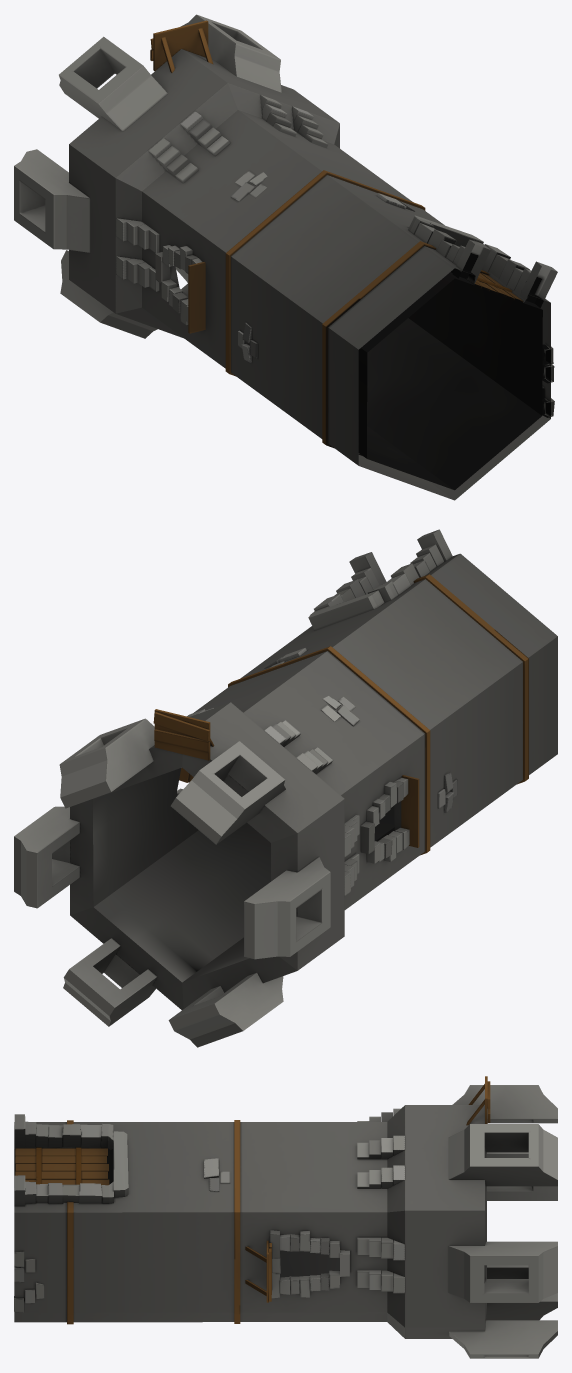
Rendered from Torre.fbx.
The picture shows the model from 3 angles, top to bottom: view 1: azimuth 30°, elevation 25°; view 2: azimuth 150°, elevation 25°; view 3: azimuth 270°, elevation 25°; orthographic projection. The views are drawn at different scales.
Visible parts, largest first — view 1: Torre; view 2: Torre; view 3: Torre.
Part boxes in pixels (x1,y1,x2,y2): Torre: (14,14,557,500); Torre: (14,529,557,1047); Torre: (14,1076,557,1358).
Size of the model in its own units: 162 by 168 by 326.
1 material, 1 textured.
